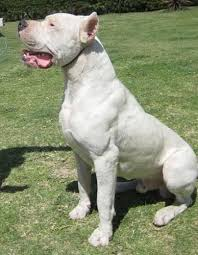dog: (16, 9, 198, 244)
